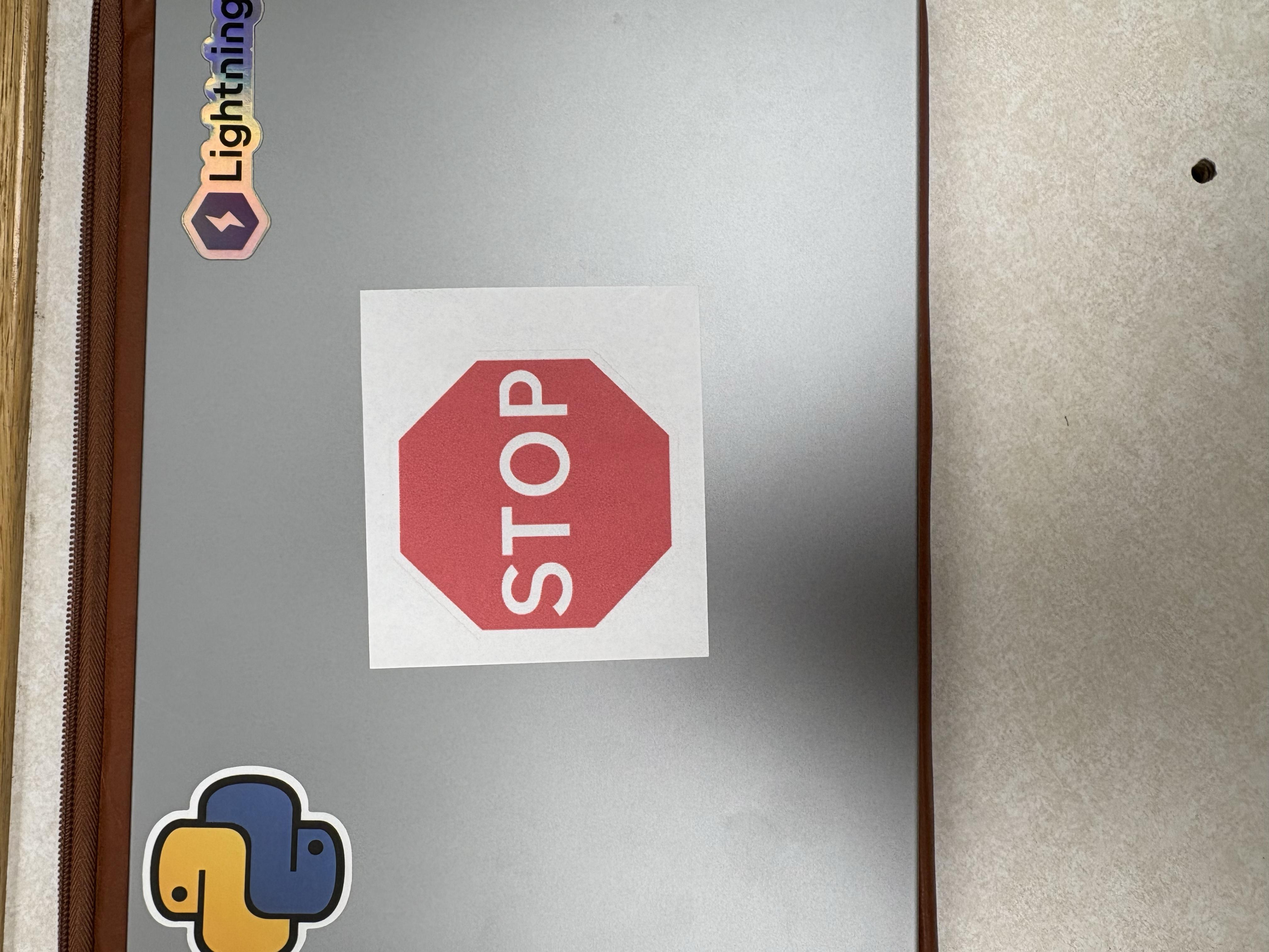Stop: (359, 284, 713, 668)
